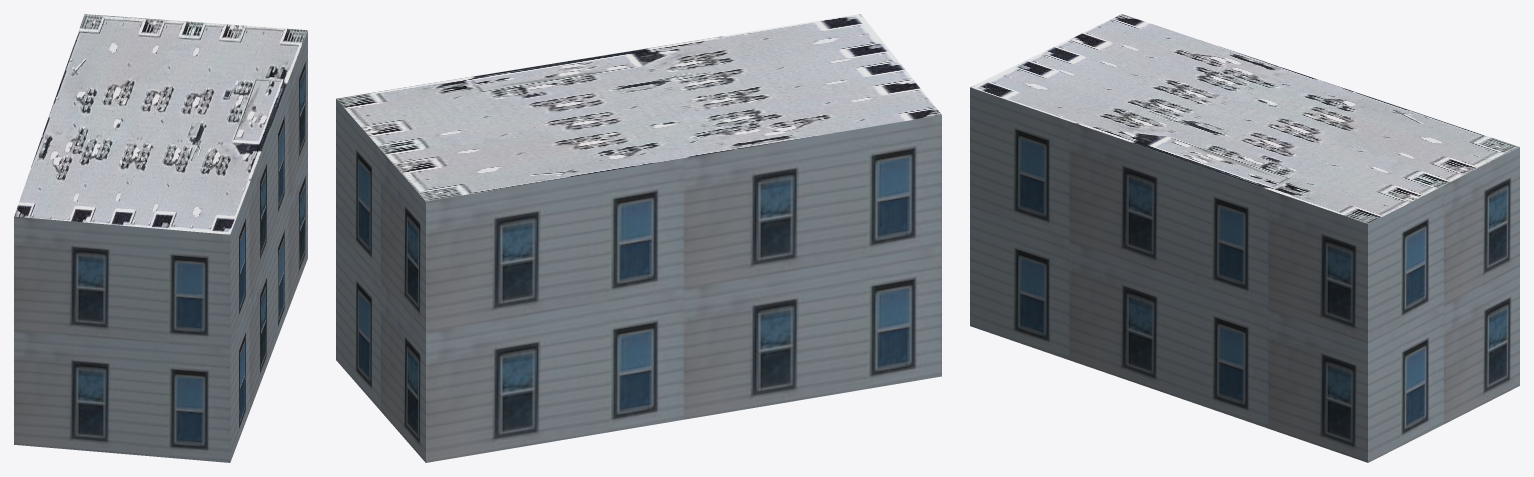
The model's file is ResTex__3008.fbx.
3 renders of one model, left to right at view 1: azimuth 30°, elevation 25°; view 2: azimuth 150°, elevation 25°; view 3: azimuth 270°, elevation 25°, orthographic. The views are drawn at different scales.
Parts seen in each view (by area): view 1: CityEngineMaterial_18_m, CityEngineMaterial_m; view 2: CityEngineMaterial_18_m, CityEngineMaterial_m; view 3: CityEngineMaterial_18_m, CityEngineMaterial_m.
Part boxes in pixels (x1,y1,x2,y2): CityEngineMaterial_18_m: [14, 31, 307, 462]; CityEngineMaterial_m: [14, 14, 307, 234]; CityEngineMaterial_18_m: [336, 99, 941, 462]; CityEngineMaterial_m: [336, 14, 941, 201]; CityEngineMaterial_18_m: [970, 87, 1519, 462]; CityEngineMaterial_m: [970, 14, 1519, 223].
Size of the model in its own units: 11.32 by 6 by 12.52.
2 materials, 2 textured.
